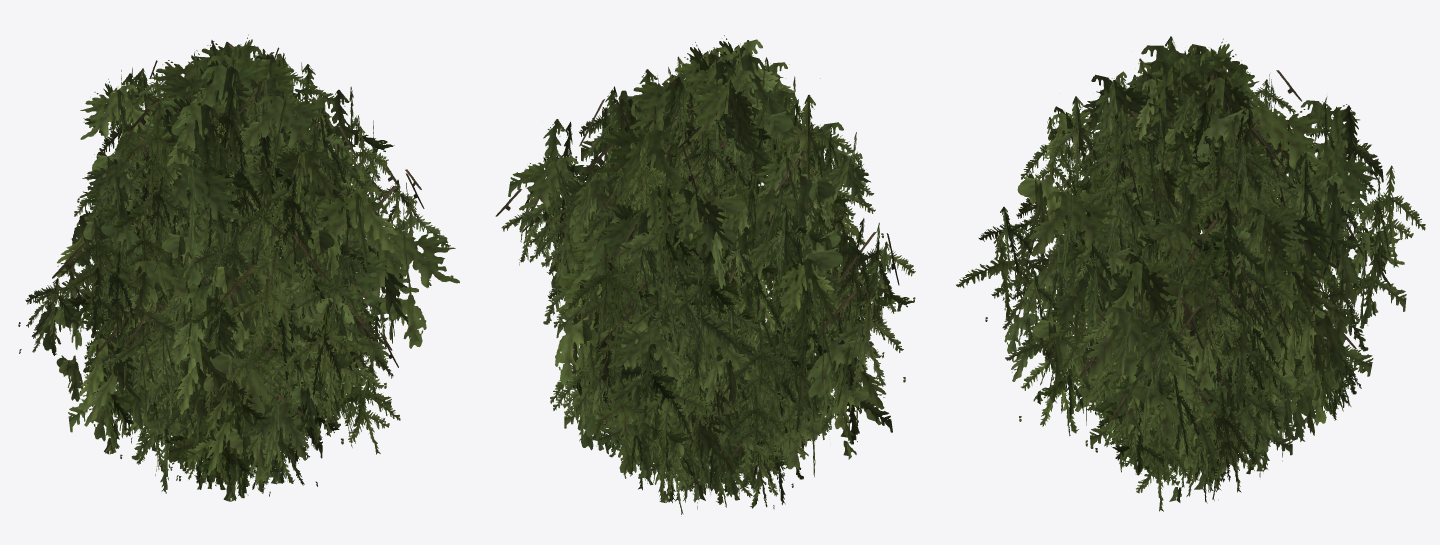
Rendered from evergreen-shrub-lod0.glb.
The picture shows the model from 3 angles, left to right: view 1: azimuth 30°, elevation 25°; view 2: azimuth 150°, elevation 25°; view 3: azimuth 270°, elevation 25°; orthographic projection. The views are drawn at different scales.
Parts seen in each view (by area): view 1: foliage; view 2: foliage; view 3: foliage.
Part boxes in pixels (left/top/right/bottom): foliage: left=18, top=34, right=459, bottom=501; foliage: left=495, top=35, right=915, bottom=514; foliage: left=956, top=36, right=1425, bottom=511.
Bounding box in the file's own units: 1.16 × 1.22 × 1.18.
1 material, 1 textured.
